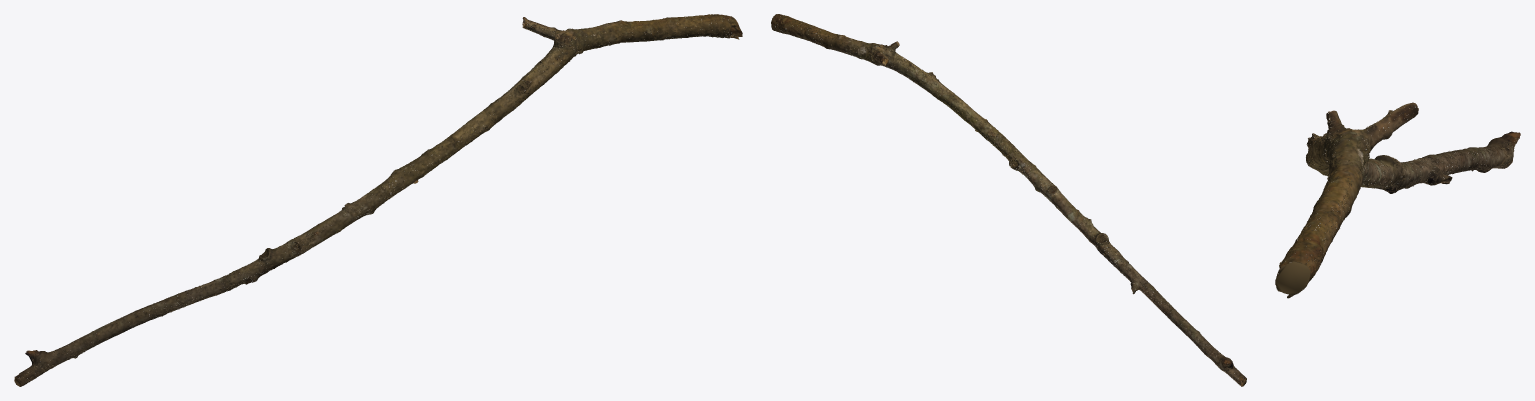
File: stick_de_exu.glb
3 renders of one model, left to right at view 1: azimuth 30°, elevation 25°; view 2: azimuth 150°, elevation 25°; view 3: azimuth 270°, elevation 25°, orthographic. The views are drawn at different scales.
Visible parts, largest first — view 1: complete2_LOD0, complete2_LOD0_complete2_LOD0_u0_v0_0.003, complete2_LOD0_complete2_LOD0_u0_v0_0.008, complete2_LOD0_complete2_LOD0_u0_v0_0.007, complete2_LOD0_complete2_LOD0_u0_v0_0.001, complete2_LOD0_complete2_LOD0_u0_v0_0.004, complete2_LOD0_complete2_LOD0_u0_v0_0.002, complete2_LOD0_complete2_LOD0_u0_v0_0.006, complete2_LOD0_complete2_LOD0_u0_v0_0.005, complete2_LOD0_complete2_LOD0_u0_v0_0.009; view 2: complete2_LOD0_complete2_LOD0_u0_v0_0.002, complete2_LOD0_complete2_LOD0_u0_v0_0.001, complete2_LOD0, complete2_LOD0_complete2_LOD0_u0_v0_0.007, complete2_LOD0_complete2_LOD0_u0_v0_0.005, complete2_LOD0_complete2_LOD0_u0_v0_0.009, complete2_LOD0_complete2_LOD0_u0_v0_0.003, complete2_LOD0_complete2_LOD0_u0_v0_0.006, complete2_LOD0_complete2_LOD0_u0_v0_0.008, complete2_LOD0_complete2_LOD0_u0_v0_0.004; view 3: complete2_LOD0_complete2_LOD0_u0_v0_0.005, complete2_LOD0_complete2_LOD0_u0_v0_0.003, complete2_LOD0_complete2_LOD0_u0_v0_0.002, complete2_LOD0, complete2_LOD0_complete2_LOD0_u0_v0_0.007, complete2_LOD0_complete2_LOD0_u0_v0_0.004, complete2_LOD0_complete2_LOD0_u0_v0_0.009, complete2_LOD0_complete2_LOD0_u0_v0_0.008, complete2_LOD0_complete2_LOD0_u0_v0_0.006.
Part boxes in pixels (x1,y1,x2,y2): complete2_LOD0: (14,14,742,386); complete2_LOD0_complete2_LOD0_u0_v0_0.003: (530,16,739,86); complete2_LOD0_complete2_LOD0_u0_v0_0.008: (27,203,361,378); complete2_LOD0_complete2_LOD0_u0_v0_0.007: (17,257,272,383); complete2_LOD0_complete2_LOD0_u0_v0_0.001: (358,74,531,217); complete2_LOD0_complete2_LOD0_u0_v0_0.004: (523,17,740,88); complete2_LOD0_complete2_LOD0_u0_v0_0.002: (379,14,731,202); complete2_LOD0_complete2_LOD0_u0_v0_0.006: (117,203,361,333); complete2_LOD0_complete2_LOD0_u0_v0_0.005: (252,20,610,280); complete2_LOD0_complete2_LOD0_u0_v0_0.009: (170,16,693,312); complete2_LOD0_complete2_LOD0_u0_v0_0.002: (771,15,1023,173); complete2_LOD0_complete2_LOD0_u0_v0_0.001: (919,71,1049,191); complete2_LOD0: (771,14,1246,386); complete2_LOD0_complete2_LOD0_u0_v0_0.007: (1099,238,1245,384); complete2_LOD0_complete2_LOD0_u0_v0_0.005: (846,38,1115,252); complete2_LOD0_complete2_LOD0_u0_v0_0.009: (797,23,1148,294); complete2_LOD0_complete2_LOD0_u0_v0_0.003: (777,14,918,83); complete2_LOD0_complete2_LOD0_u0_v0_0.006: (1044,183,1185,325); complete2_LOD0_complete2_LOD0_u0_v0_0.008: (1045,186,1240,384); complete2_LOD0_complete2_LOD0_u0_v0_0.004: (773,21,921,82); complete2_LOD0_complete2_LOD0_u0_v0_0.005: (1332,105,1418,188); complete2_LOD0_complete2_LOD0_u0_v0_0.003: (1279,128,1370,276); complete2_LOD0_complete2_LOD0_u0_v0_0.002: (1284,134,1361,273); complete2_LOD0: (1275,133,1512,298); complete2_LOD0_complete2_LOD0_u0_v0_0.007: (1375,131,1520,189); complete2_LOD0_complete2_LOD0_u0_v0_0.004: (1277,103,1416,297); complete2_LOD0_complete2_LOD0_u0_v0_0.009: (1303,102,1452,230); complete2_LOD0_complete2_LOD0_u0_v0_0.008: (1366,133,1519,193); complete2_LOD0_complete2_LOD0_u0_v0_0.006: (1361,155,1465,192).
Bounding box in the file's own units: 54.36 × 21.66 × 11.02.
Materials: 2 (2 with a texture image).
